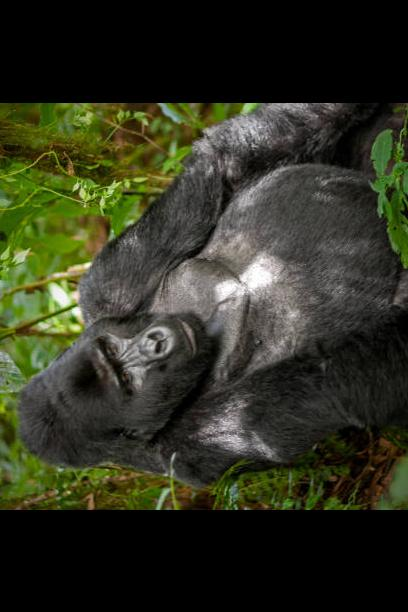goriile_montagne: (18, 102, 408, 488)
